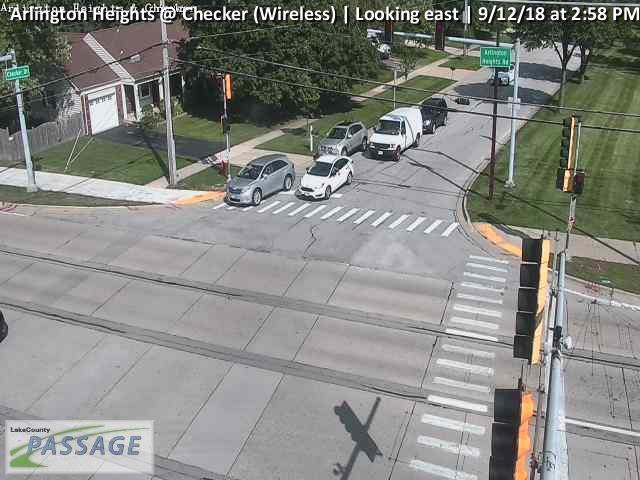Sedan: (226, 154, 297, 207), (297, 155, 354, 205), (317, 119, 368, 159), (420, 98, 448, 135), (489, 64, 516, 84)
Truck: (369, 108, 423, 160)
